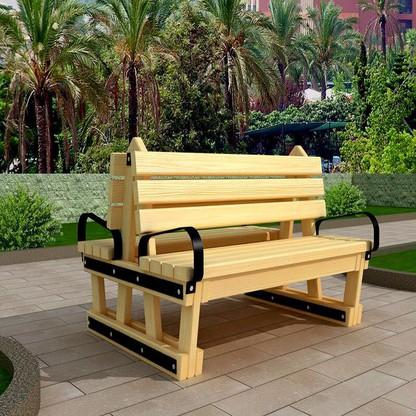obstacle: (73, 140, 370, 389)
